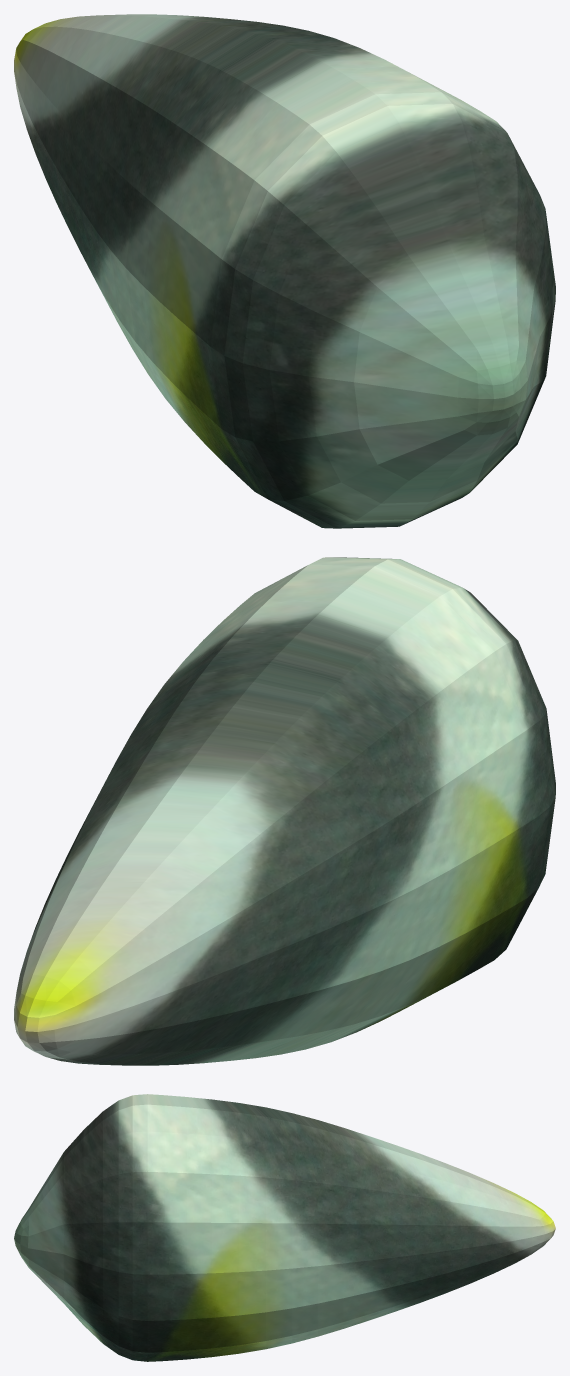
Rendered from Fish2_1_new.dae.
3 renders of one model, top to bottom at view 1: azimuth 30°, elevation 25°; view 2: azimuth 150°, elevation 25°; view 3: azimuth 270°, elevation 25°, orthographic. The views are drawn at different scales.
Visible parts, largest first — view 1: Cube_001; view 2: Cube_001; view 3: Cube_001.
Part boxes in pixels (x1=…): Cube_001: x1=14, y1=14, x2=555, y2=528; Cube_001: x1=14, y1=557, x2=555, y2=1065; Cube_001: x1=14, y1=1094, x2=555, y2=1361.
Bounding box in the file's own units: 6.84 × 16.74 × 8.41.
1 material, 1 textured.
